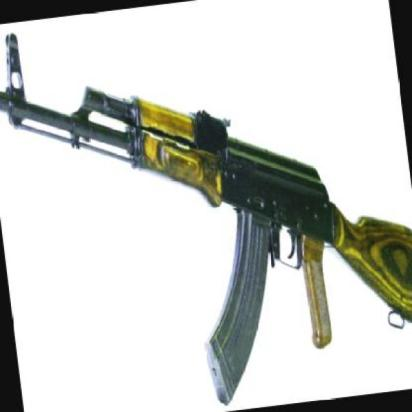Gun: (0, 0, 412, 389)
